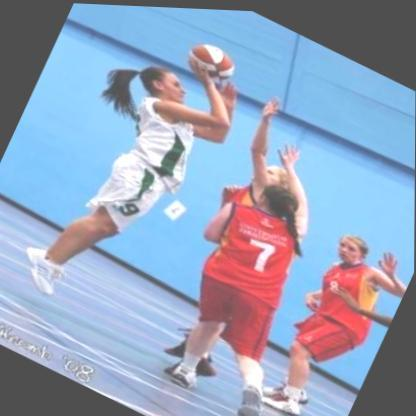basketball: (182, 32, 242, 87)
